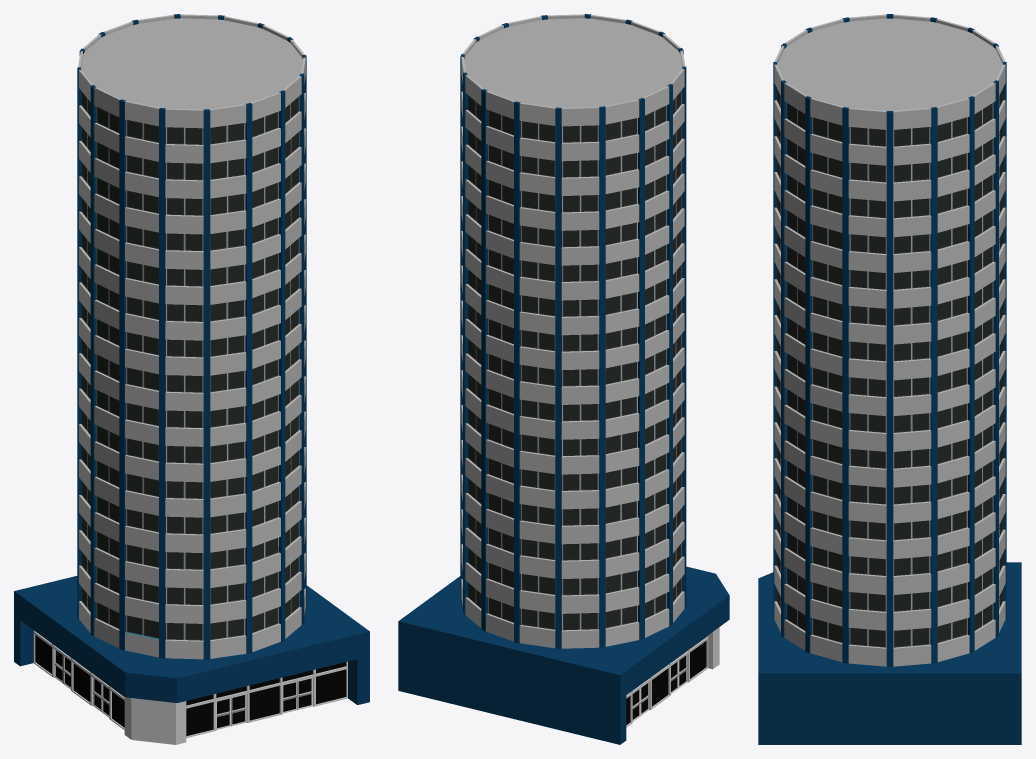
3 renders of one model, left to right at view 1: azimuth 30°, elevation 25°; view 2: azimuth 150°, elevation 25°; view 3: azimuth 270°, elevation 25°, orthographic. The views are drawn at different scales.
Parts seen in each view (by area): view 1: EC-14; view 2: EC-14; view 3: EC-14.
Boxes of the visible parts, bbox=[...] form: EC-14: bbox=[14, 14, 369, 744]; EC-14: bbox=[398, 14, 729, 744]; EC-14: bbox=[758, 14, 1021, 744].
Size of what is drawn, in the model's own units: 20 by 52.5 by 20.
